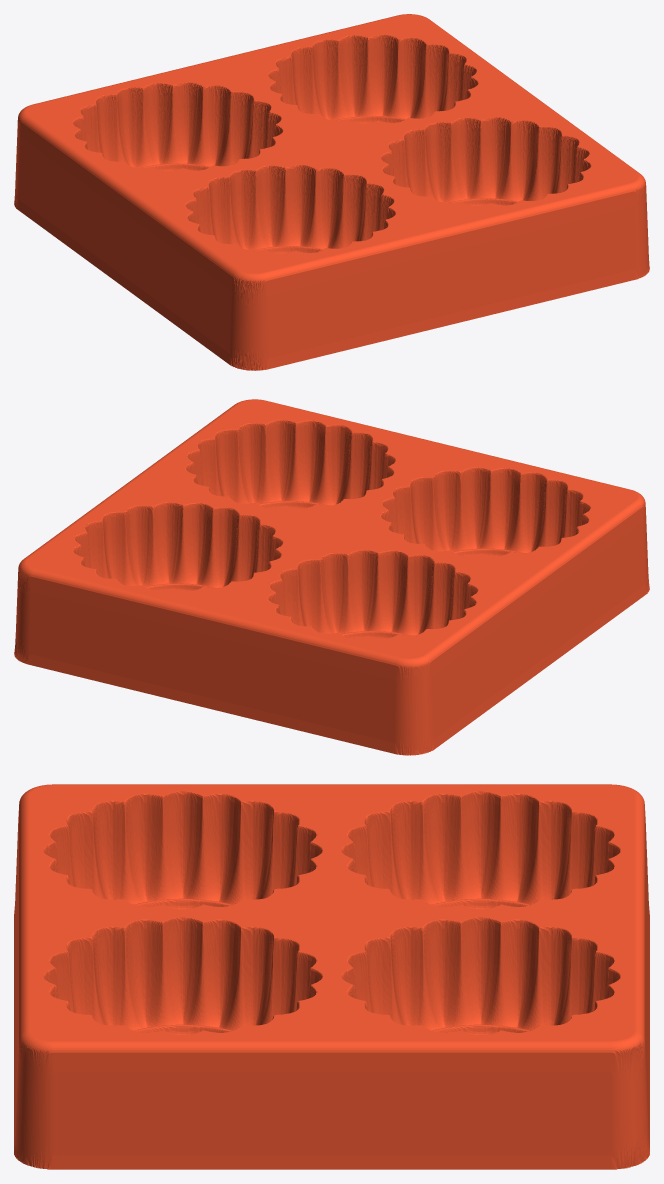
File: mold.glb
3 renders of one model, top to bottom at view 1: azimuth 30°, elevation 25°; view 2: azimuth 150°, elevation 25°; view 3: azimuth 270°, elevation 25°, orthographic. The views are drawn at different scales.
Parts seen in each view (by area): view 1: geometry_0; view 2: geometry_0; view 3: geometry_0.
Part boxes in pixels (x1=…): geometry_0: x1=14, y1=14, x2=649, y2=370; geometry_0: x1=14, y1=399, x2=649, y2=755; geometry_0: x1=14, y1=784, x2=649, y2=1169.
Bounding box in the file's own units: 0.1466 × 0.031 × 0.1466.
